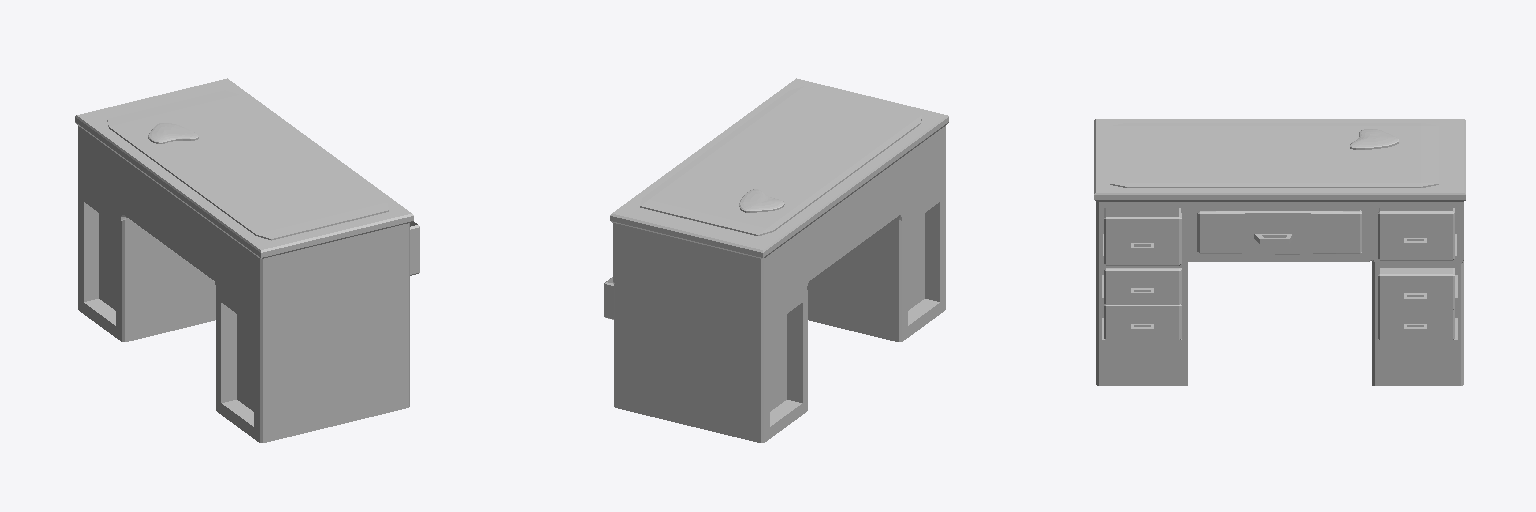
File: Desk.obj
3 views of the same model, side by side, from view 1: azimuth 30°, elevation 25°; view 2: azimuth 150°, elevation 25°; view 3: azimuth 270°, elevation 25° (orthographic).
Parts seen in each view (by area): view 1: Desk_Cube; view 2: Desk_Cube; view 3: Desk_Cube.
Part boxes in pixels (bbox=[...]): Desk_Cube: bbox=[75, 78, 419, 442]; Desk_Cube: bbox=[604, 78, 948, 442]; Desk_Cube: bbox=[1094, 119, 1465, 385].
Size of the model in its own units: 4.03 by 4.35 by 7.39.